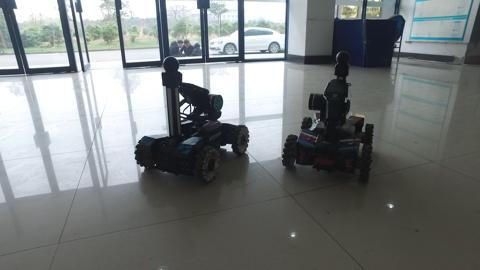chariot: (269, 46, 388, 192), (130, 50, 255, 187)
